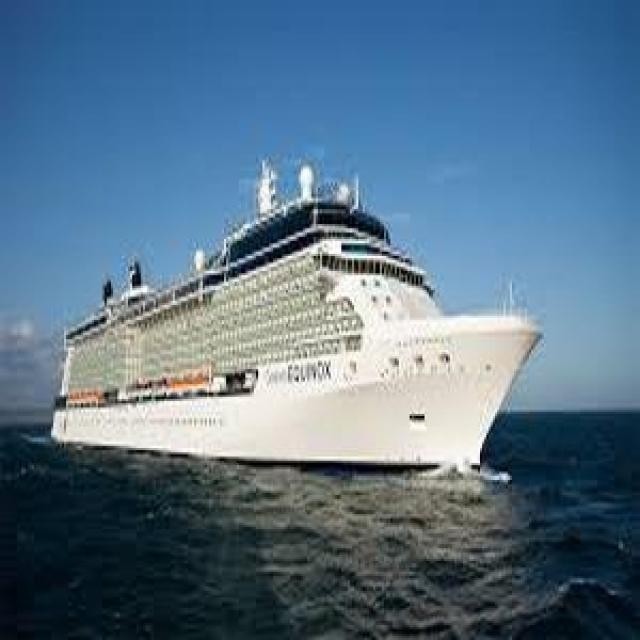passenger ship: (46, 193, 543, 470)
